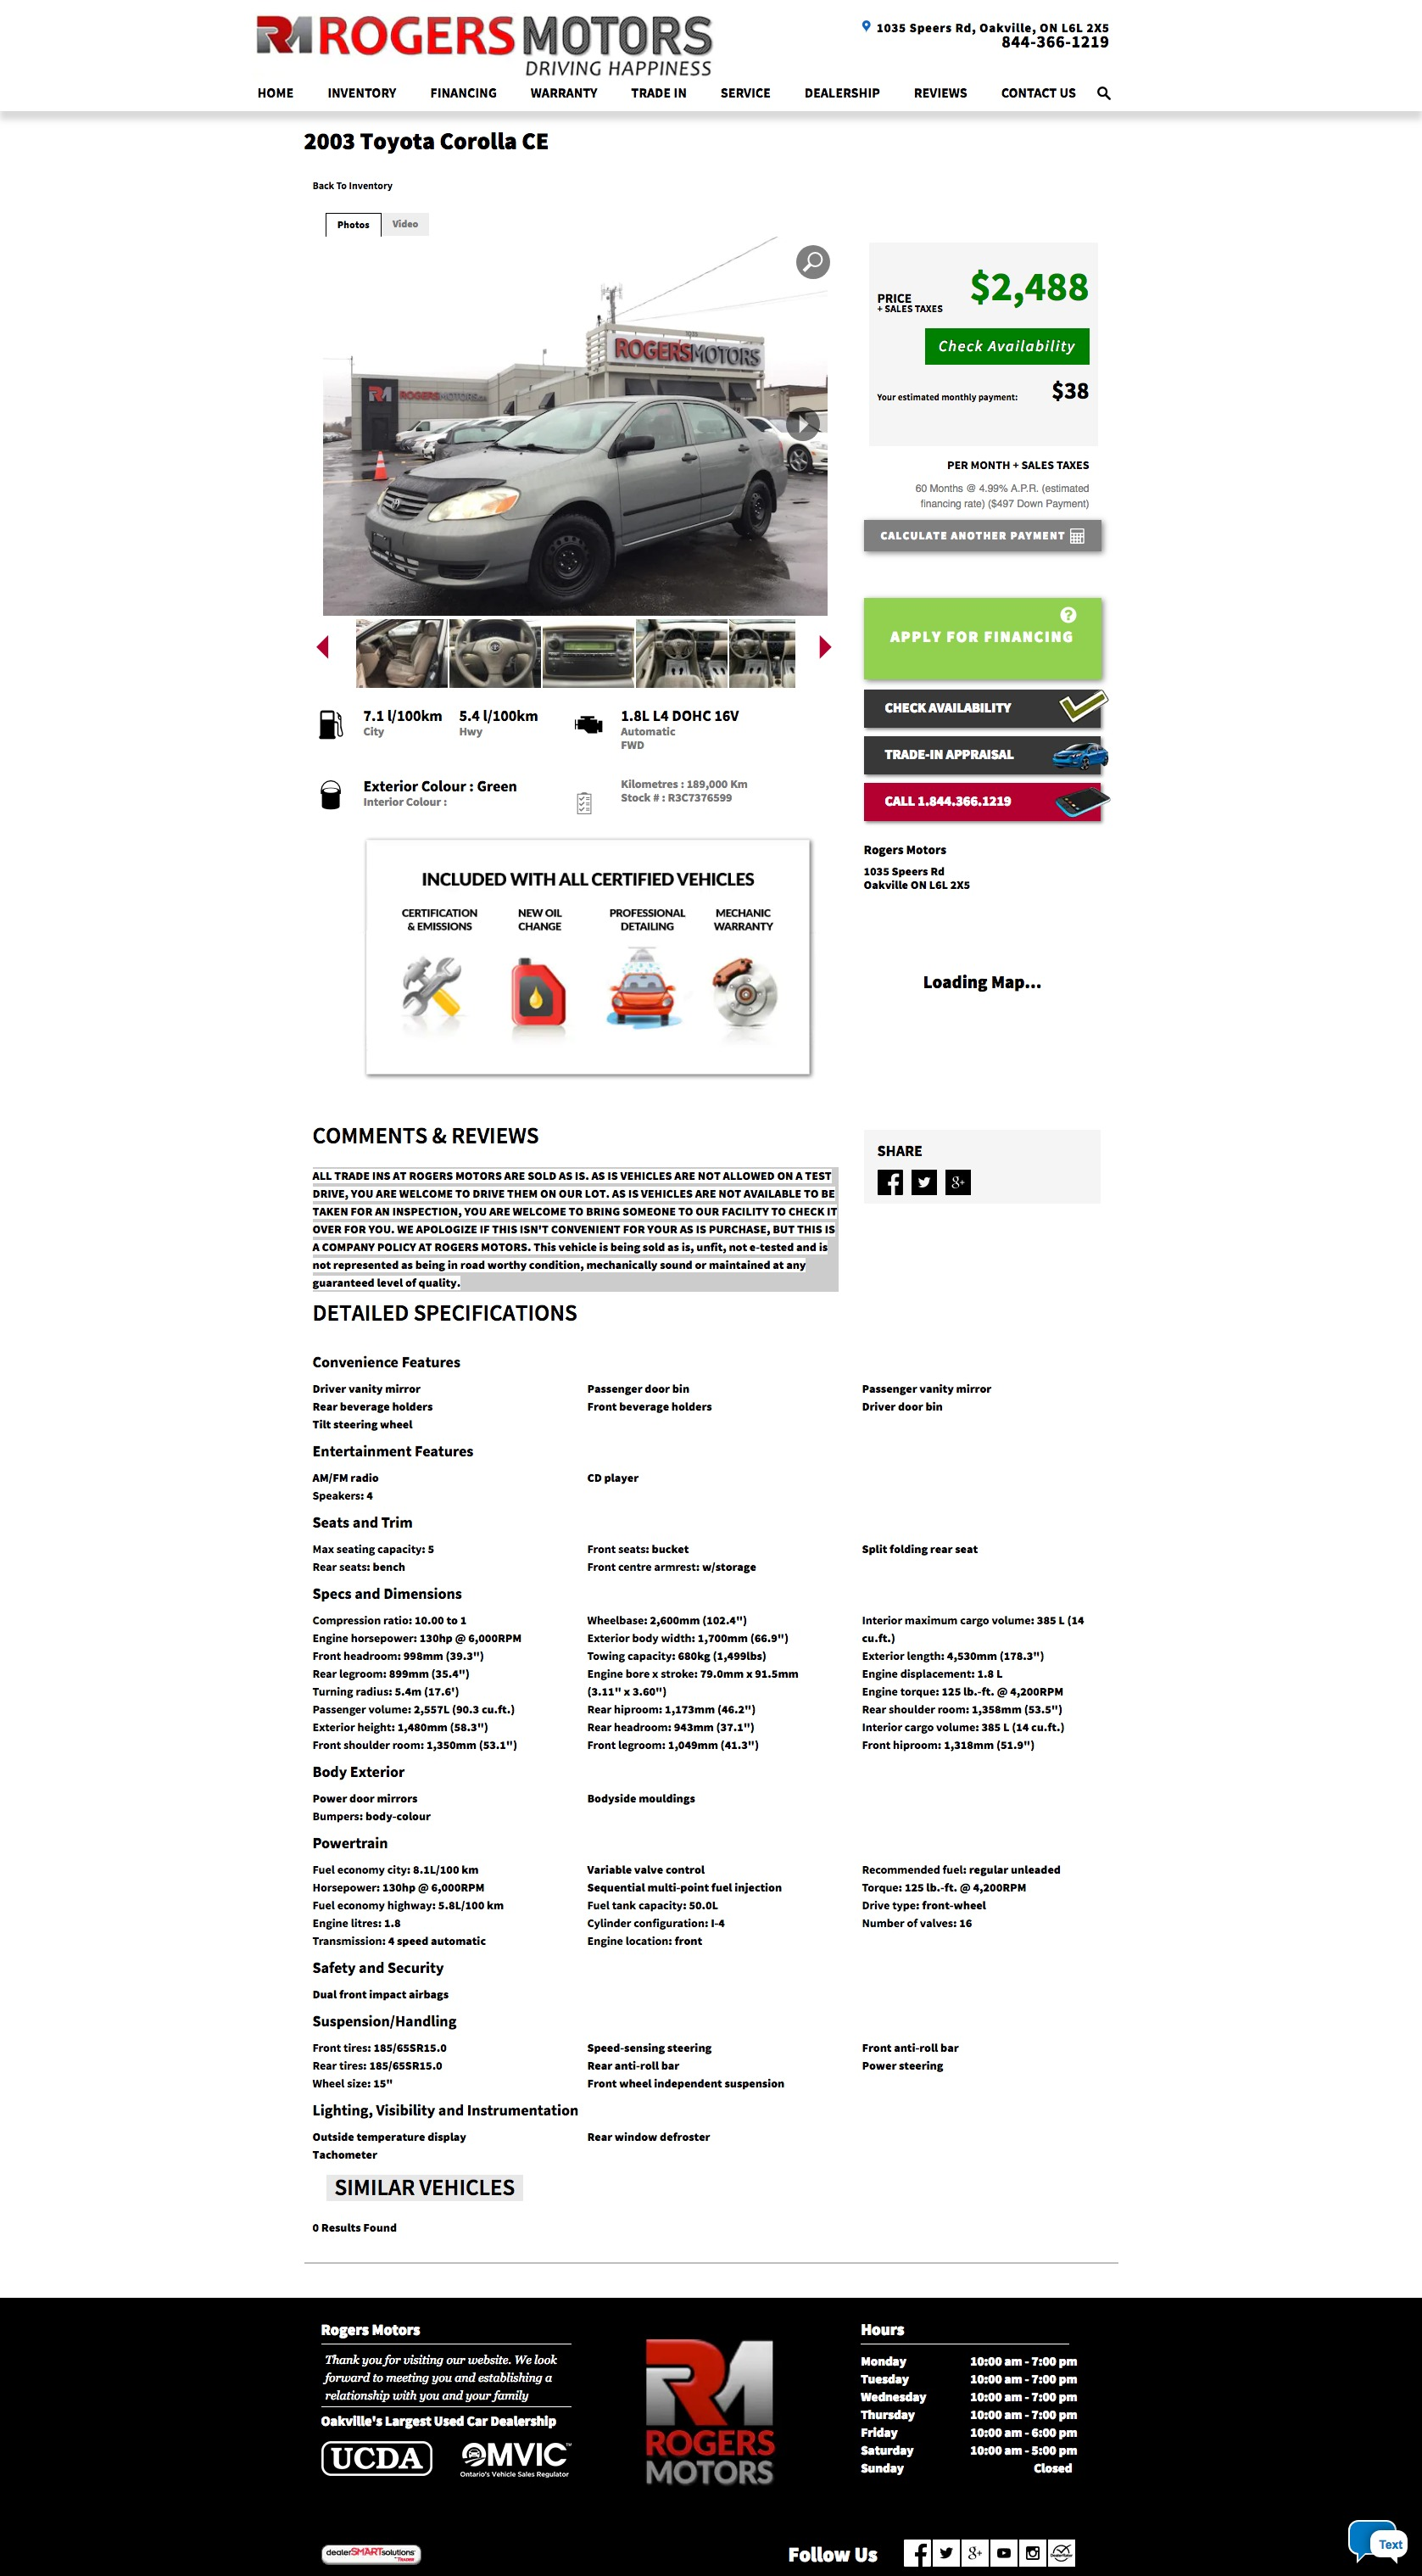car: (818, 634, 832, 660)
